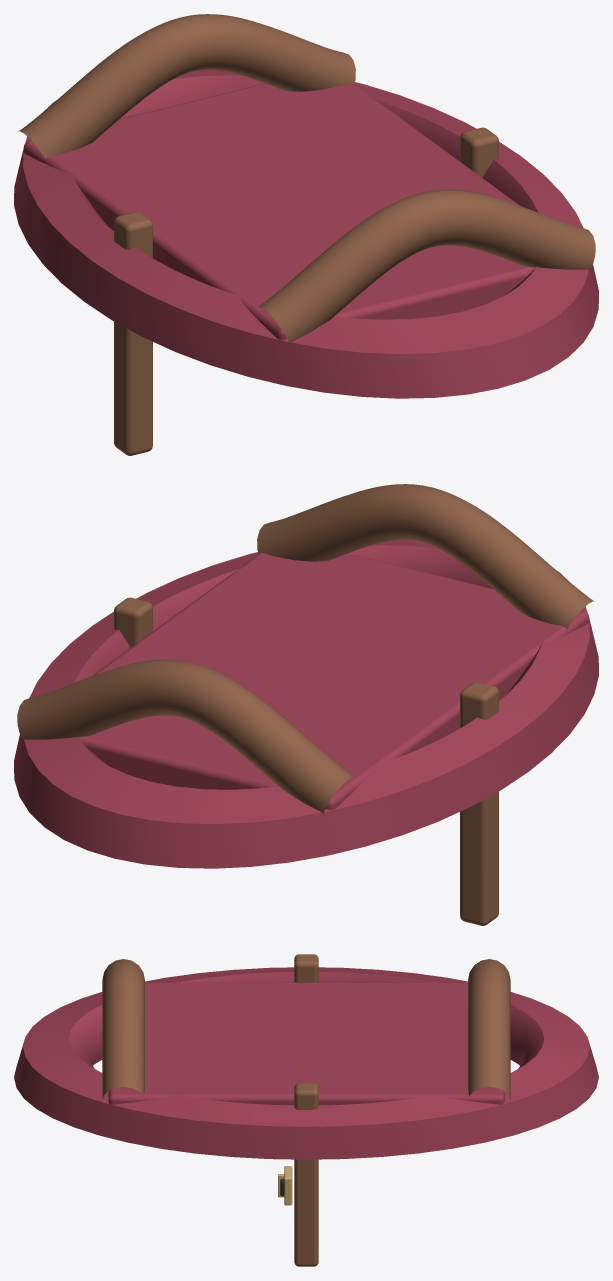
File: griffin-airmail-roost-and-posthouse-griffin-saddle-8c630125__30504.glb
3 views of the same model, one above another, from view 1: azimuth 30°, elevation 25°; view 2: azimuth 150°, elevation 25°; view 3: azimuth 270°, elevation 25° (orthographic). The views are drawn at different scales.
Parts seen in each view (by area): view 1: griffin-saddle; view 2: griffin-saddle; view 3: griffin-saddle.
Boxes of the visible parts, x1,y1,x2,y2 form: griffin-saddle: (14, 14, 598, 455); griffin-saddle: (14, 484, 598, 925); griffin-saddle: (14, 954, 598, 1266).
Bounding box in the file's own units: 0.64 × 0.415 × 0.96.
